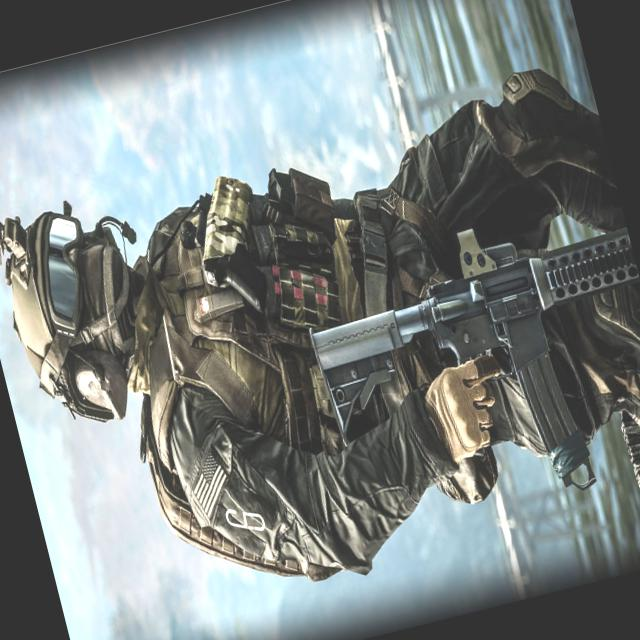long weapon: (268, 183, 639, 531)
